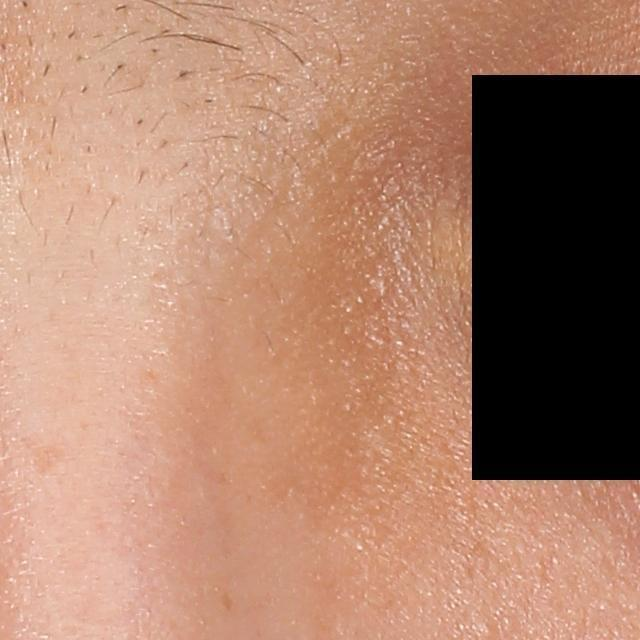melasma: (19, 432, 78, 477), (221, 590, 236, 611)
